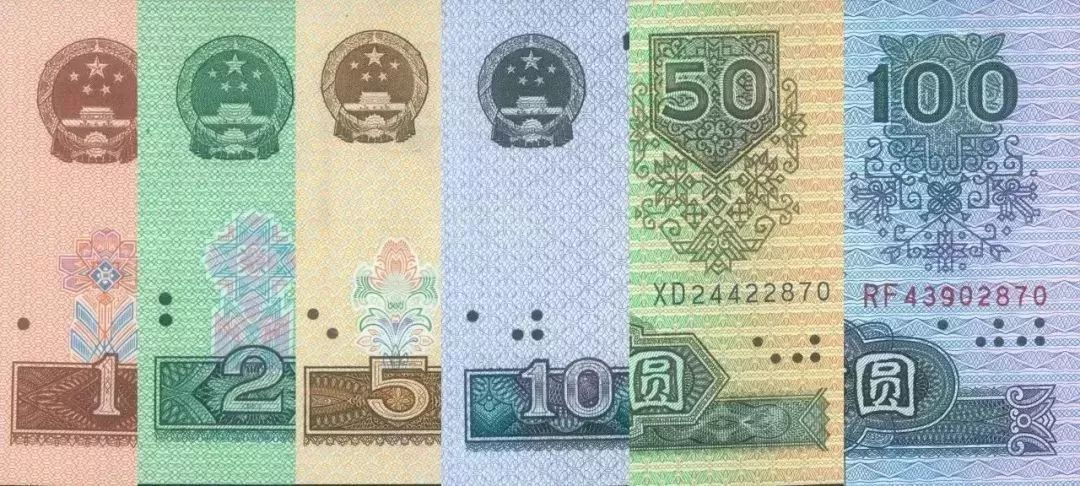Braille: (512, 305, 545, 355), (307, 304, 339, 354), (159, 290, 190, 341), (1017, 316, 1047, 360), (752, 334, 781, 375), (467, 307, 495, 349), (794, 333, 822, 375), (977, 316, 1004, 359), (18, 315, 39, 355), (939, 319, 962, 355)
